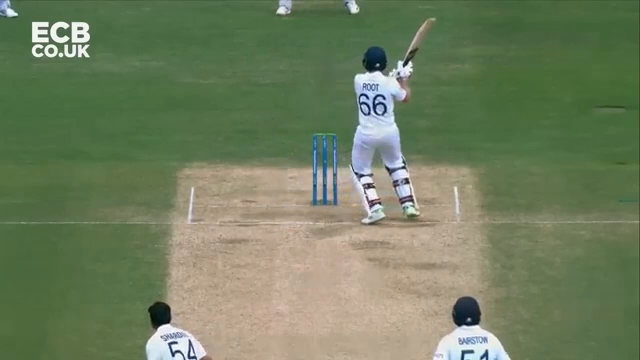batsman: (346, 45, 423, 225)
